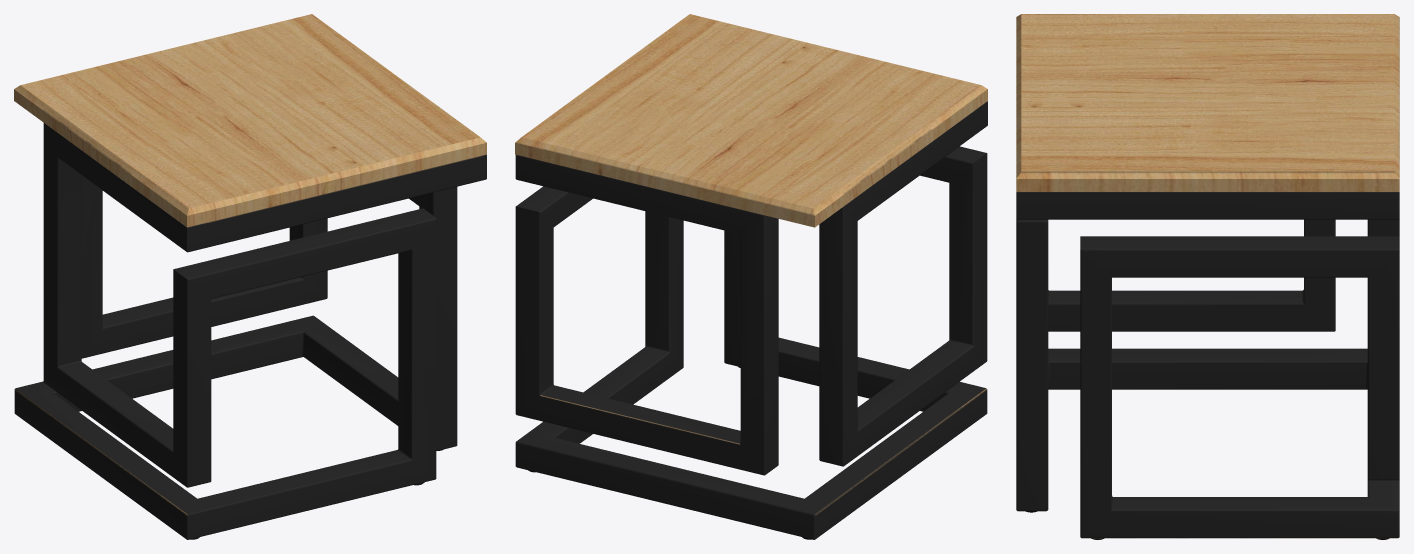
The model's file is CoffeeTable.glb.
3 renders of one model, left to right at view 1: azimuth 30°, elevation 25°; view 2: azimuth 150°, elevation 25°; view 3: azimuth 270°, elevation 25°, orthographic. The views are drawn at different scales.
Parts seen in each view (by area): view 1: Coffee_table_60x60x60; view 2: Coffee_table_60x60x60; view 3: Coffee_table_60x60x60.
Boxes of the visible parts, x1,y1,x2,y2 form: Coffee_table_60x60x60: [14, 14, 486, 539]; Coffee_table_60x60x60: [515, 14, 987, 539]; Coffee_table_60x60x60: [1016, 14, 1399, 539].
Size of the model in its own units: 0.6 by 0.6381 by 0.6.
1 material, 1 textured.
